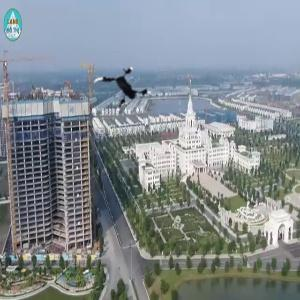drone: (88, 58, 159, 129)
